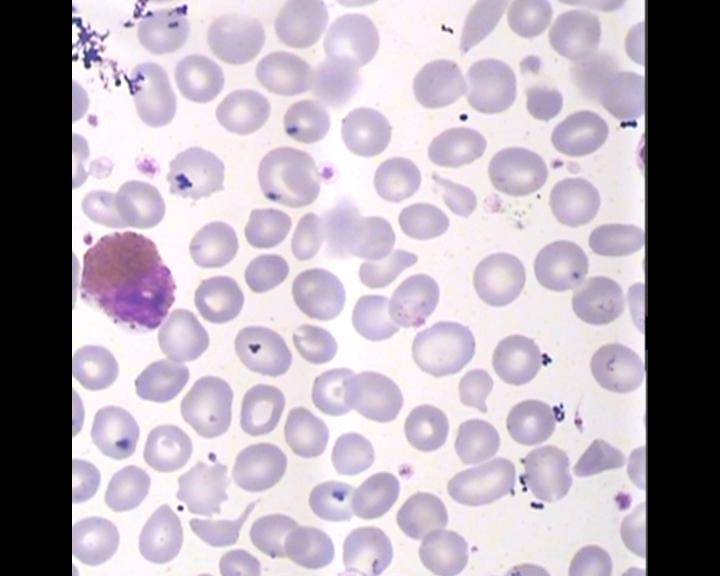eosi: (76, 223, 179, 335)
